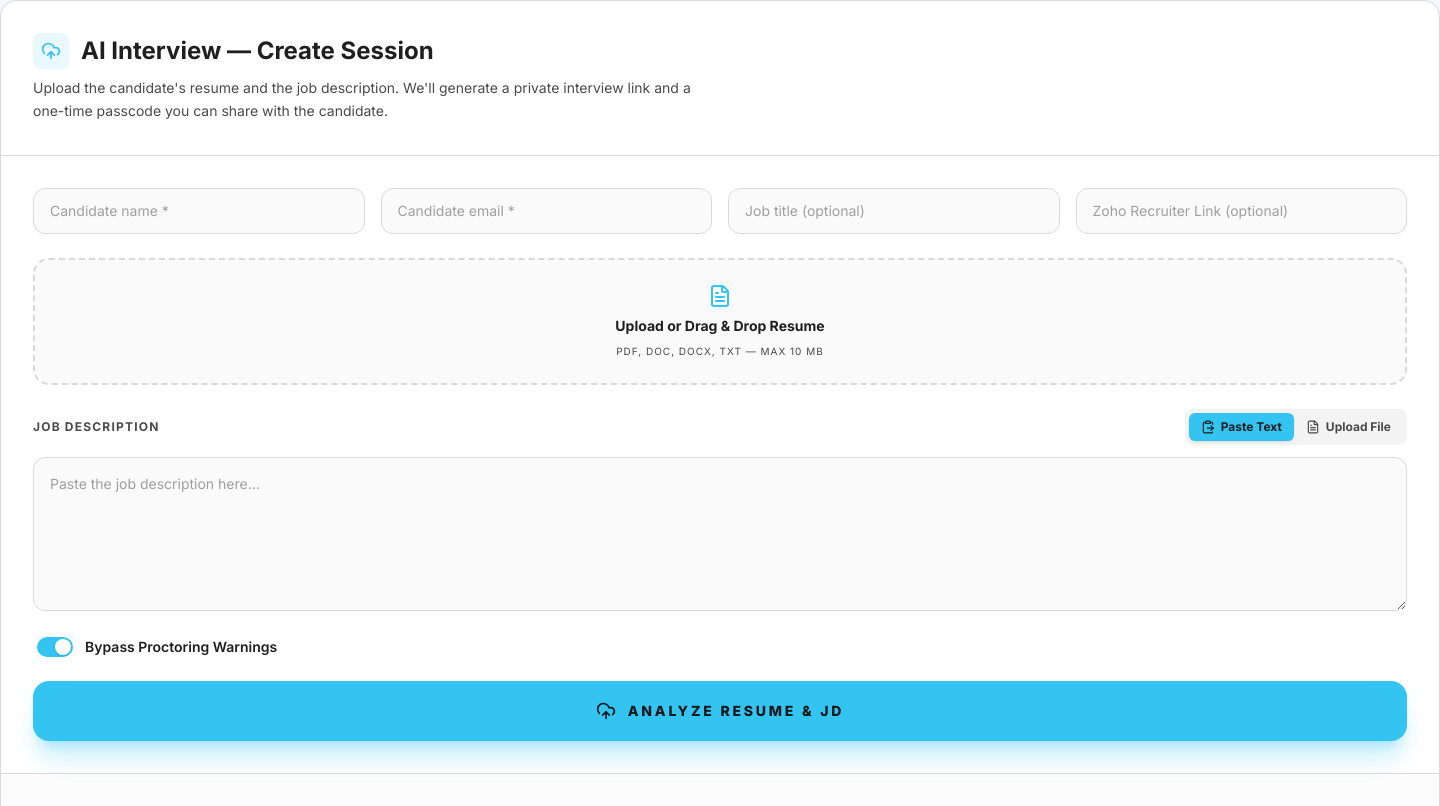
Test case: Admin create-interview form — UI scenarios › TC-UI-02 Switching to "Upload File" mode swaps the textarea for a file picker
The image size is (1440, 806).
Click the button "Upload File" at coordinates (1348, 426), box [1294, 412, 1403, 440]
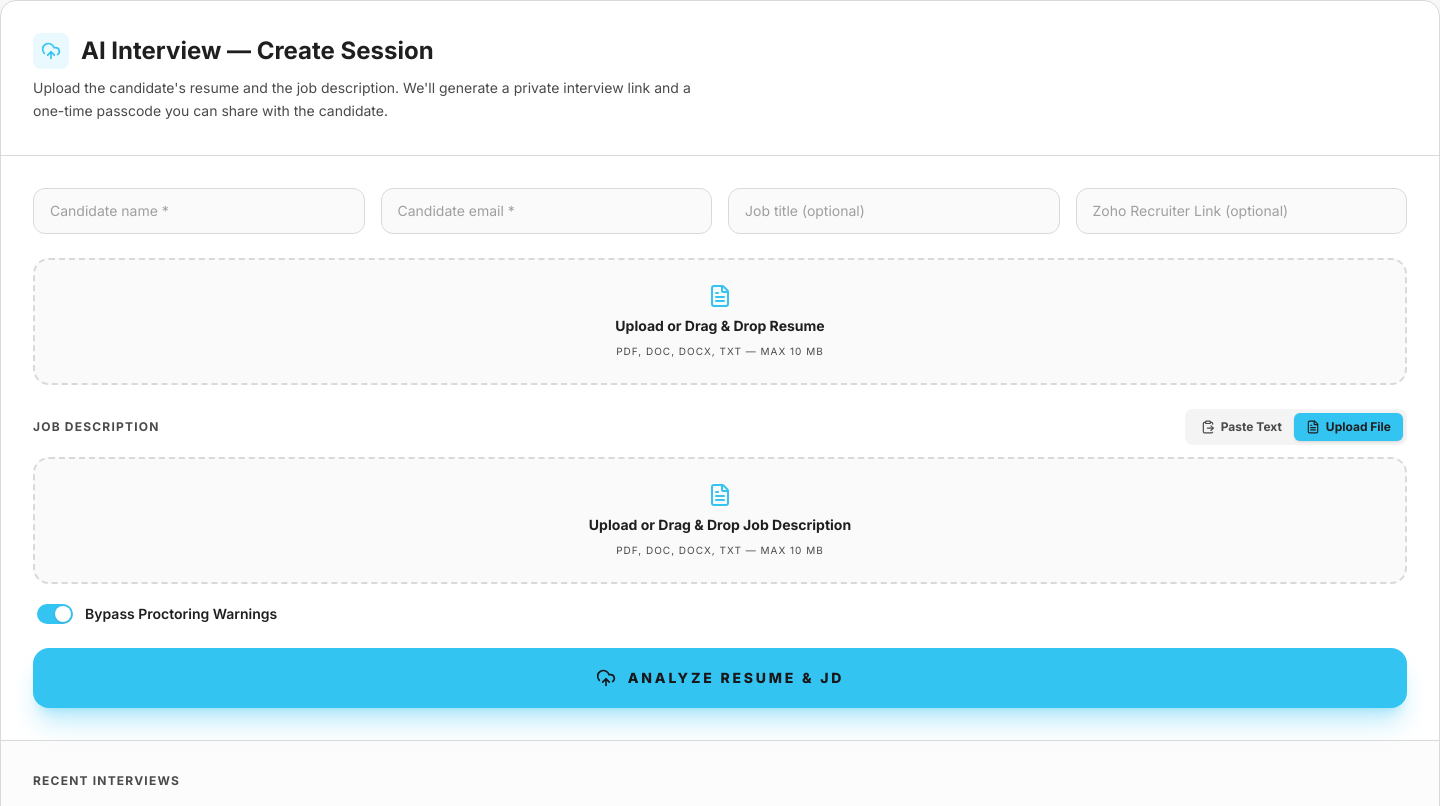
Expected: the field with placeholder "Paste the job description here..." is not shown
Expected: the text "Upload or Drag & Drop Job Description" is shown, [589, 514, 851, 534]
